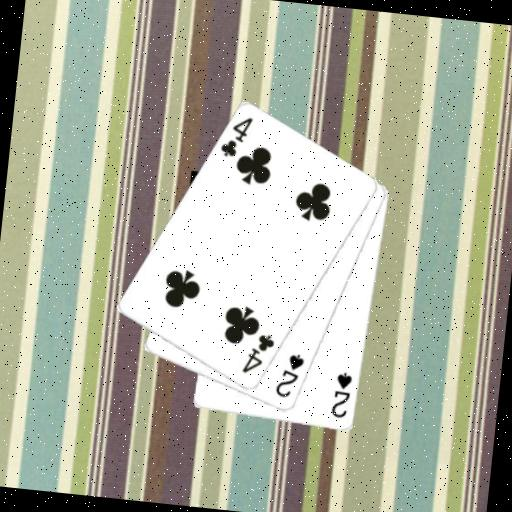2S: (272, 349, 307, 401), (328, 368, 355, 421)
4C: (217, 112, 256, 161), (239, 330, 278, 378)
